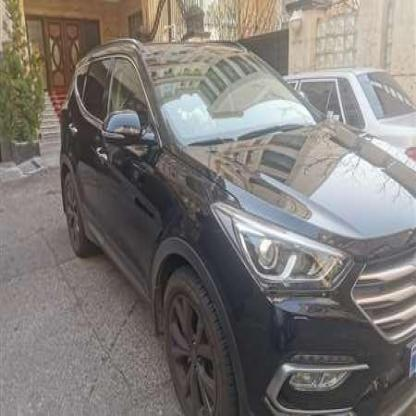Car: (59, 32, 416, 416), (281, 56, 416, 176)
